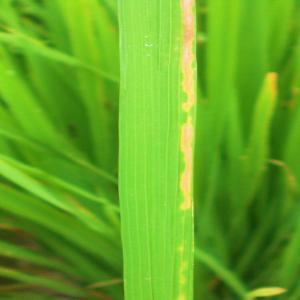Bacterial_Blight: (115, 1, 196, 300)
